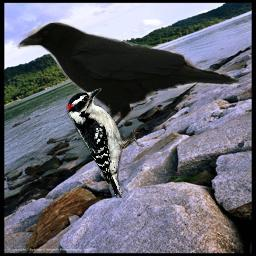Crow: (11, 16, 239, 129)
Woodpecker: (66, 88, 146, 198)
